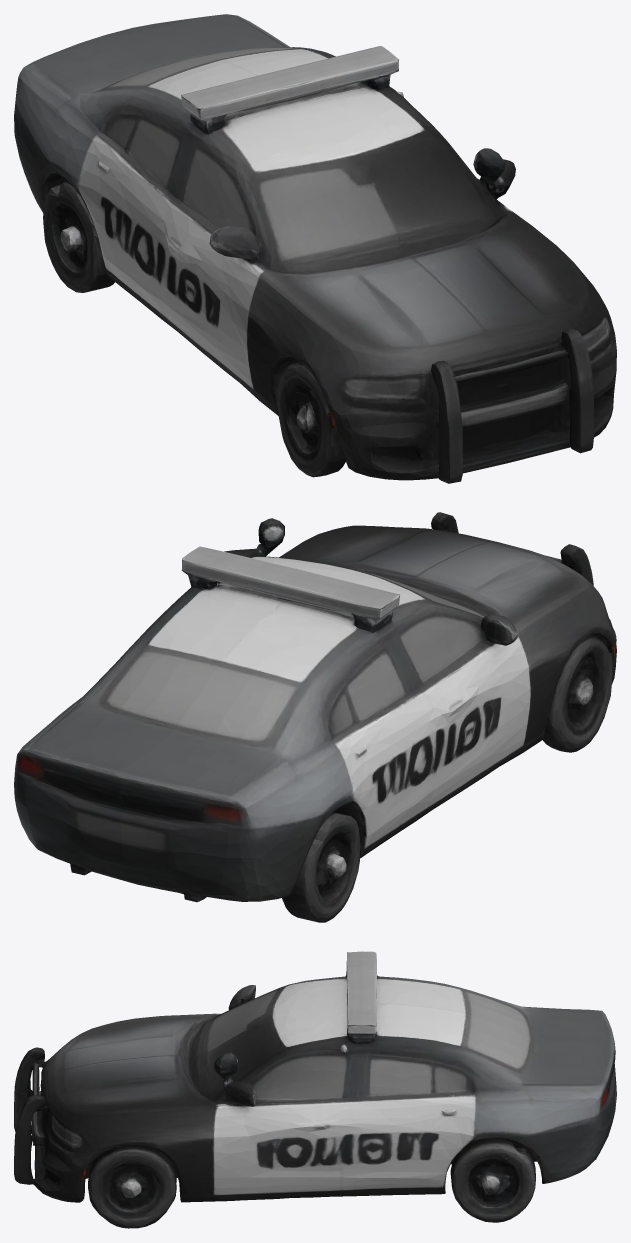
3 views of the same model, one above another, from view 1: azimuth 30°, elevation 25°; view 2: azimuth 150°, elevation 25°; view 3: azimuth 270°, elevation 25° (orthographic). The views are drawn at different scales.
Visible parts, largest first — view 1: geometry_0; view 2: geometry_0; view 3: geometry_0.
Part boxes in pixels (x1=…): geometry_0: x1=14, y1=14, x2=616, y2=483; geometry_0: x1=14, y1=512, x2=616, y2=922; geometry_0: x1=14, y1=951, x2=616, y2=1228.
Size of the model in its own units: 0.4392 by 0.3478 by 0.9999.
Materials: 1 (1 with a texture image).
